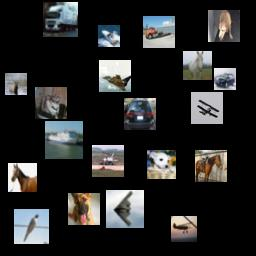airplane: (106, 190, 144, 228), (191, 92, 223, 124), (99, 60, 131, 92), (92, 145, 124, 177), (171, 216, 197, 242)
automobile: (124, 98, 156, 130), (214, 68, 236, 90)
bird: (14, 209, 49, 244)
cat: (35, 87, 67, 119)
deer: (5, 73, 27, 95)
dog: (208, 10, 240, 42), (68, 193, 100, 225), (147, 150, 176, 179)
ship: (45, 121, 83, 159), (98, 25, 120, 47)
truck: (43, 2, 78, 37), (143, 16, 175, 48)
